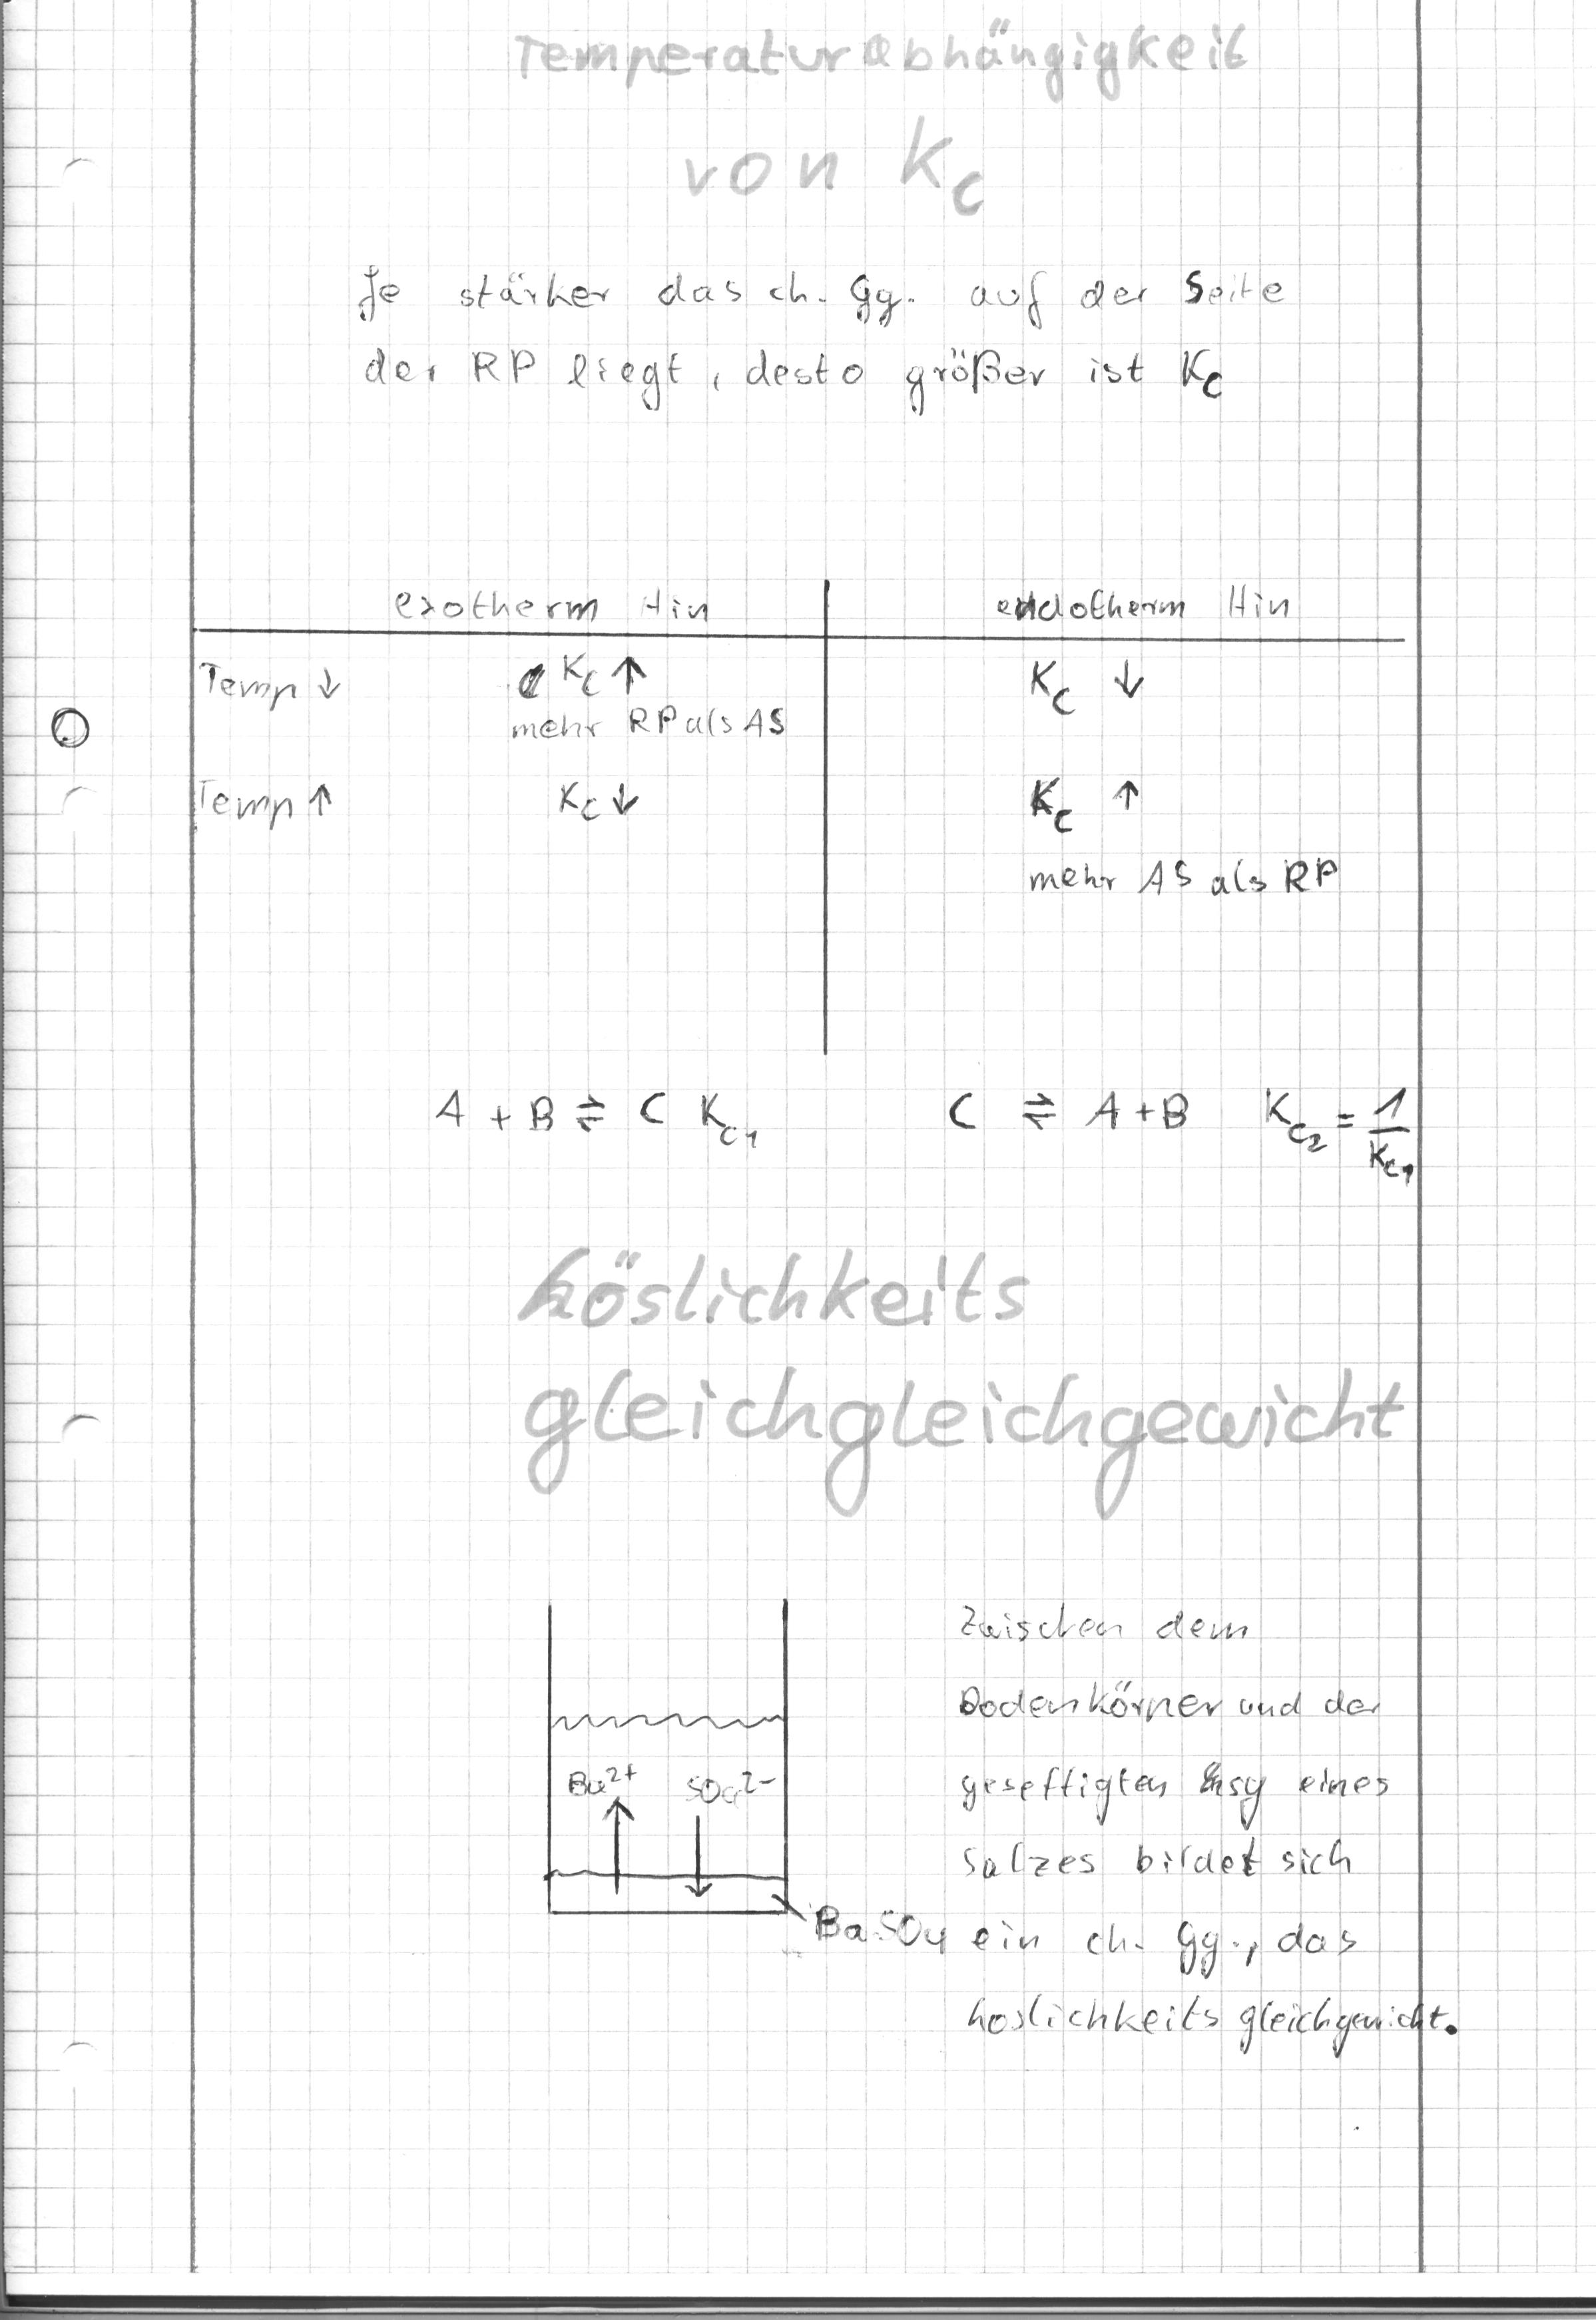word: (951, 1590, 1472, 2070), (348, 250, 1298, 430), (1007, 648, 1370, 922), (921, 1057, 1451, 1207), (499, 641, 800, 845), (409, 1066, 778, 1174), (182, 645, 374, 846), (380, 569, 722, 644), (987, 567, 1307, 643), (800, 1881, 954, 1969)
